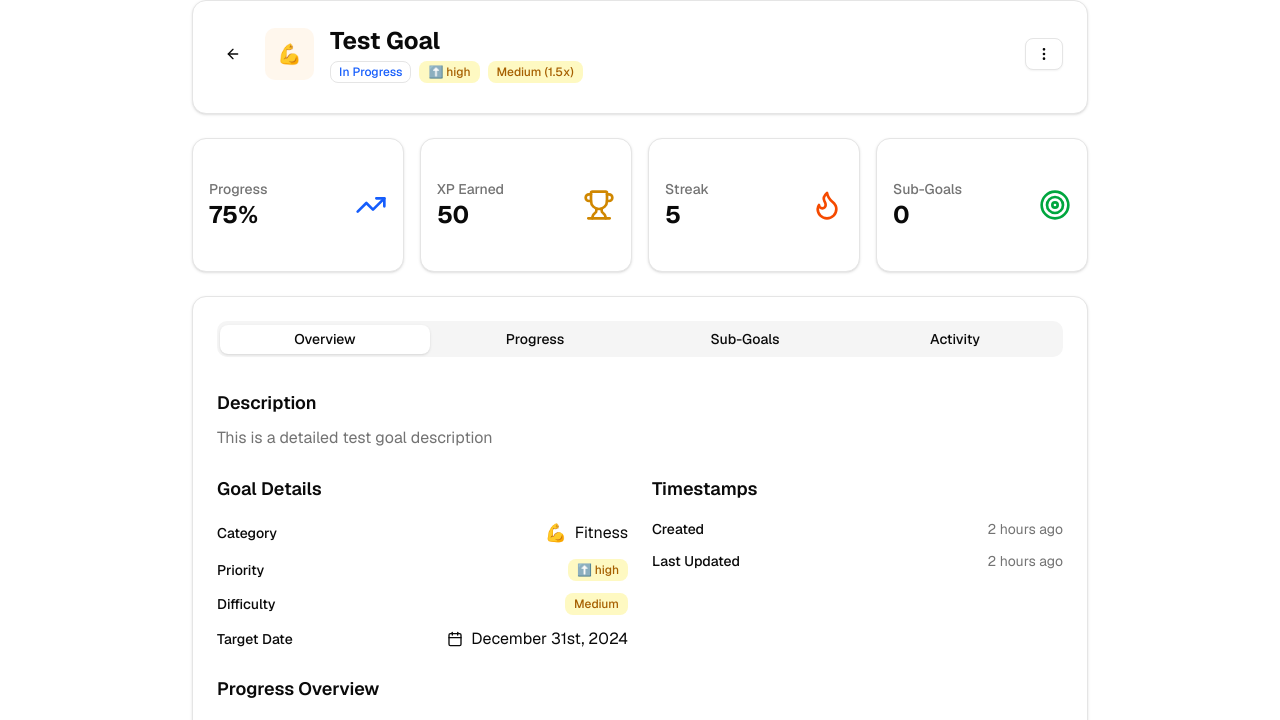
Test: GoalDetail Component › Sub-Goals Tab › should show no sub-goals message when none exist
Click the tab "Sub-Goals" at coordinates (745, 339), box [640,324,850,354]
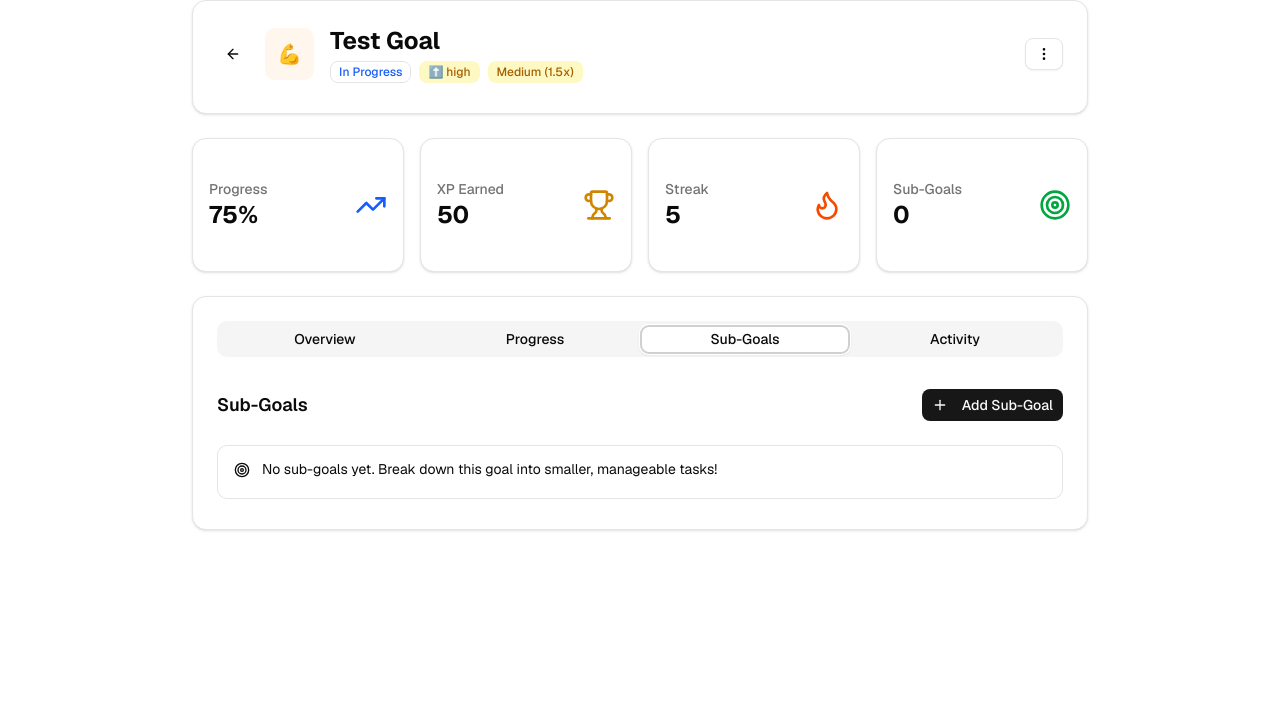
Expected: the text "No sub-goals yet" is shown, [262,460,717,478]
